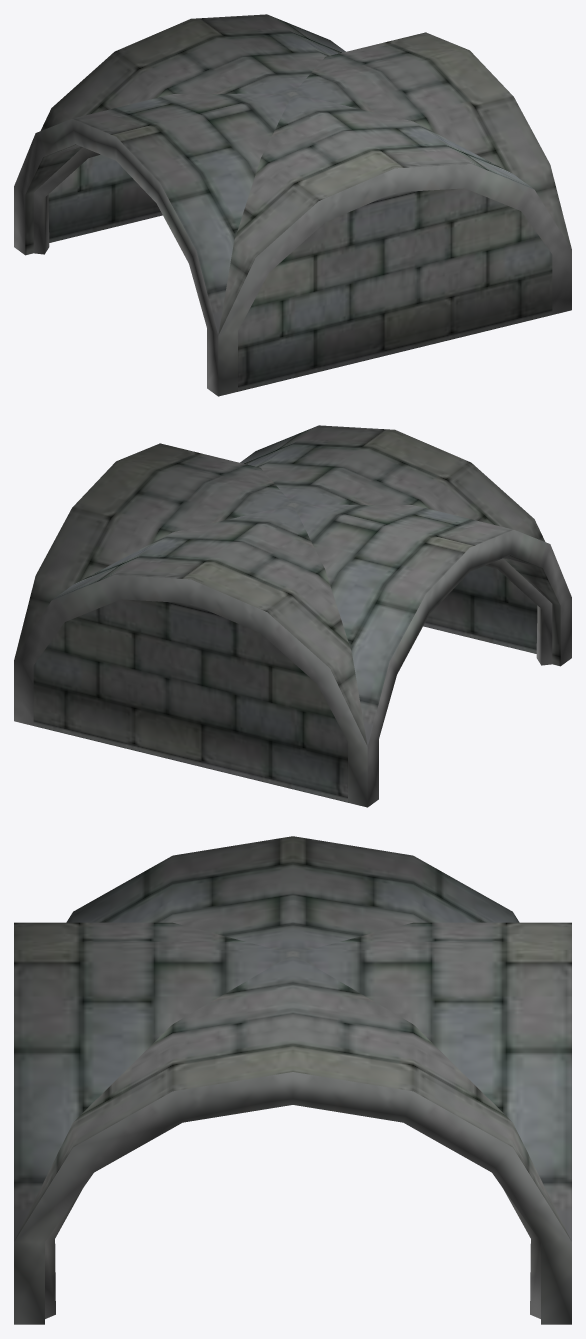
The model's file is sd_vault_ceiling_large_03.glb.
3 views of the same model, one above another, from view 1: azimuth 30°, elevation 25°; view 2: azimuth 150°, elevation 25°; view 3: azimuth 270°, elevation 25° (orthographic). The views are drawn at different scales.
Visible parts, largest first — view 1: vault_ceiling_large_03; view 2: vault_ceiling_large_03; view 3: vault_ceiling_large_03.
Part boxes in pixels (box(x1,y1,x2,y2)): vault_ceiling_large_03: box(14, 14, 571, 396); vault_ceiling_large_03: box(14, 425, 571, 807); vault_ceiling_large_03: box(14, 836, 571, 1324).
Bounding box in the file's own units: 4 × 2 × 4.
1 material, 1 textured.
